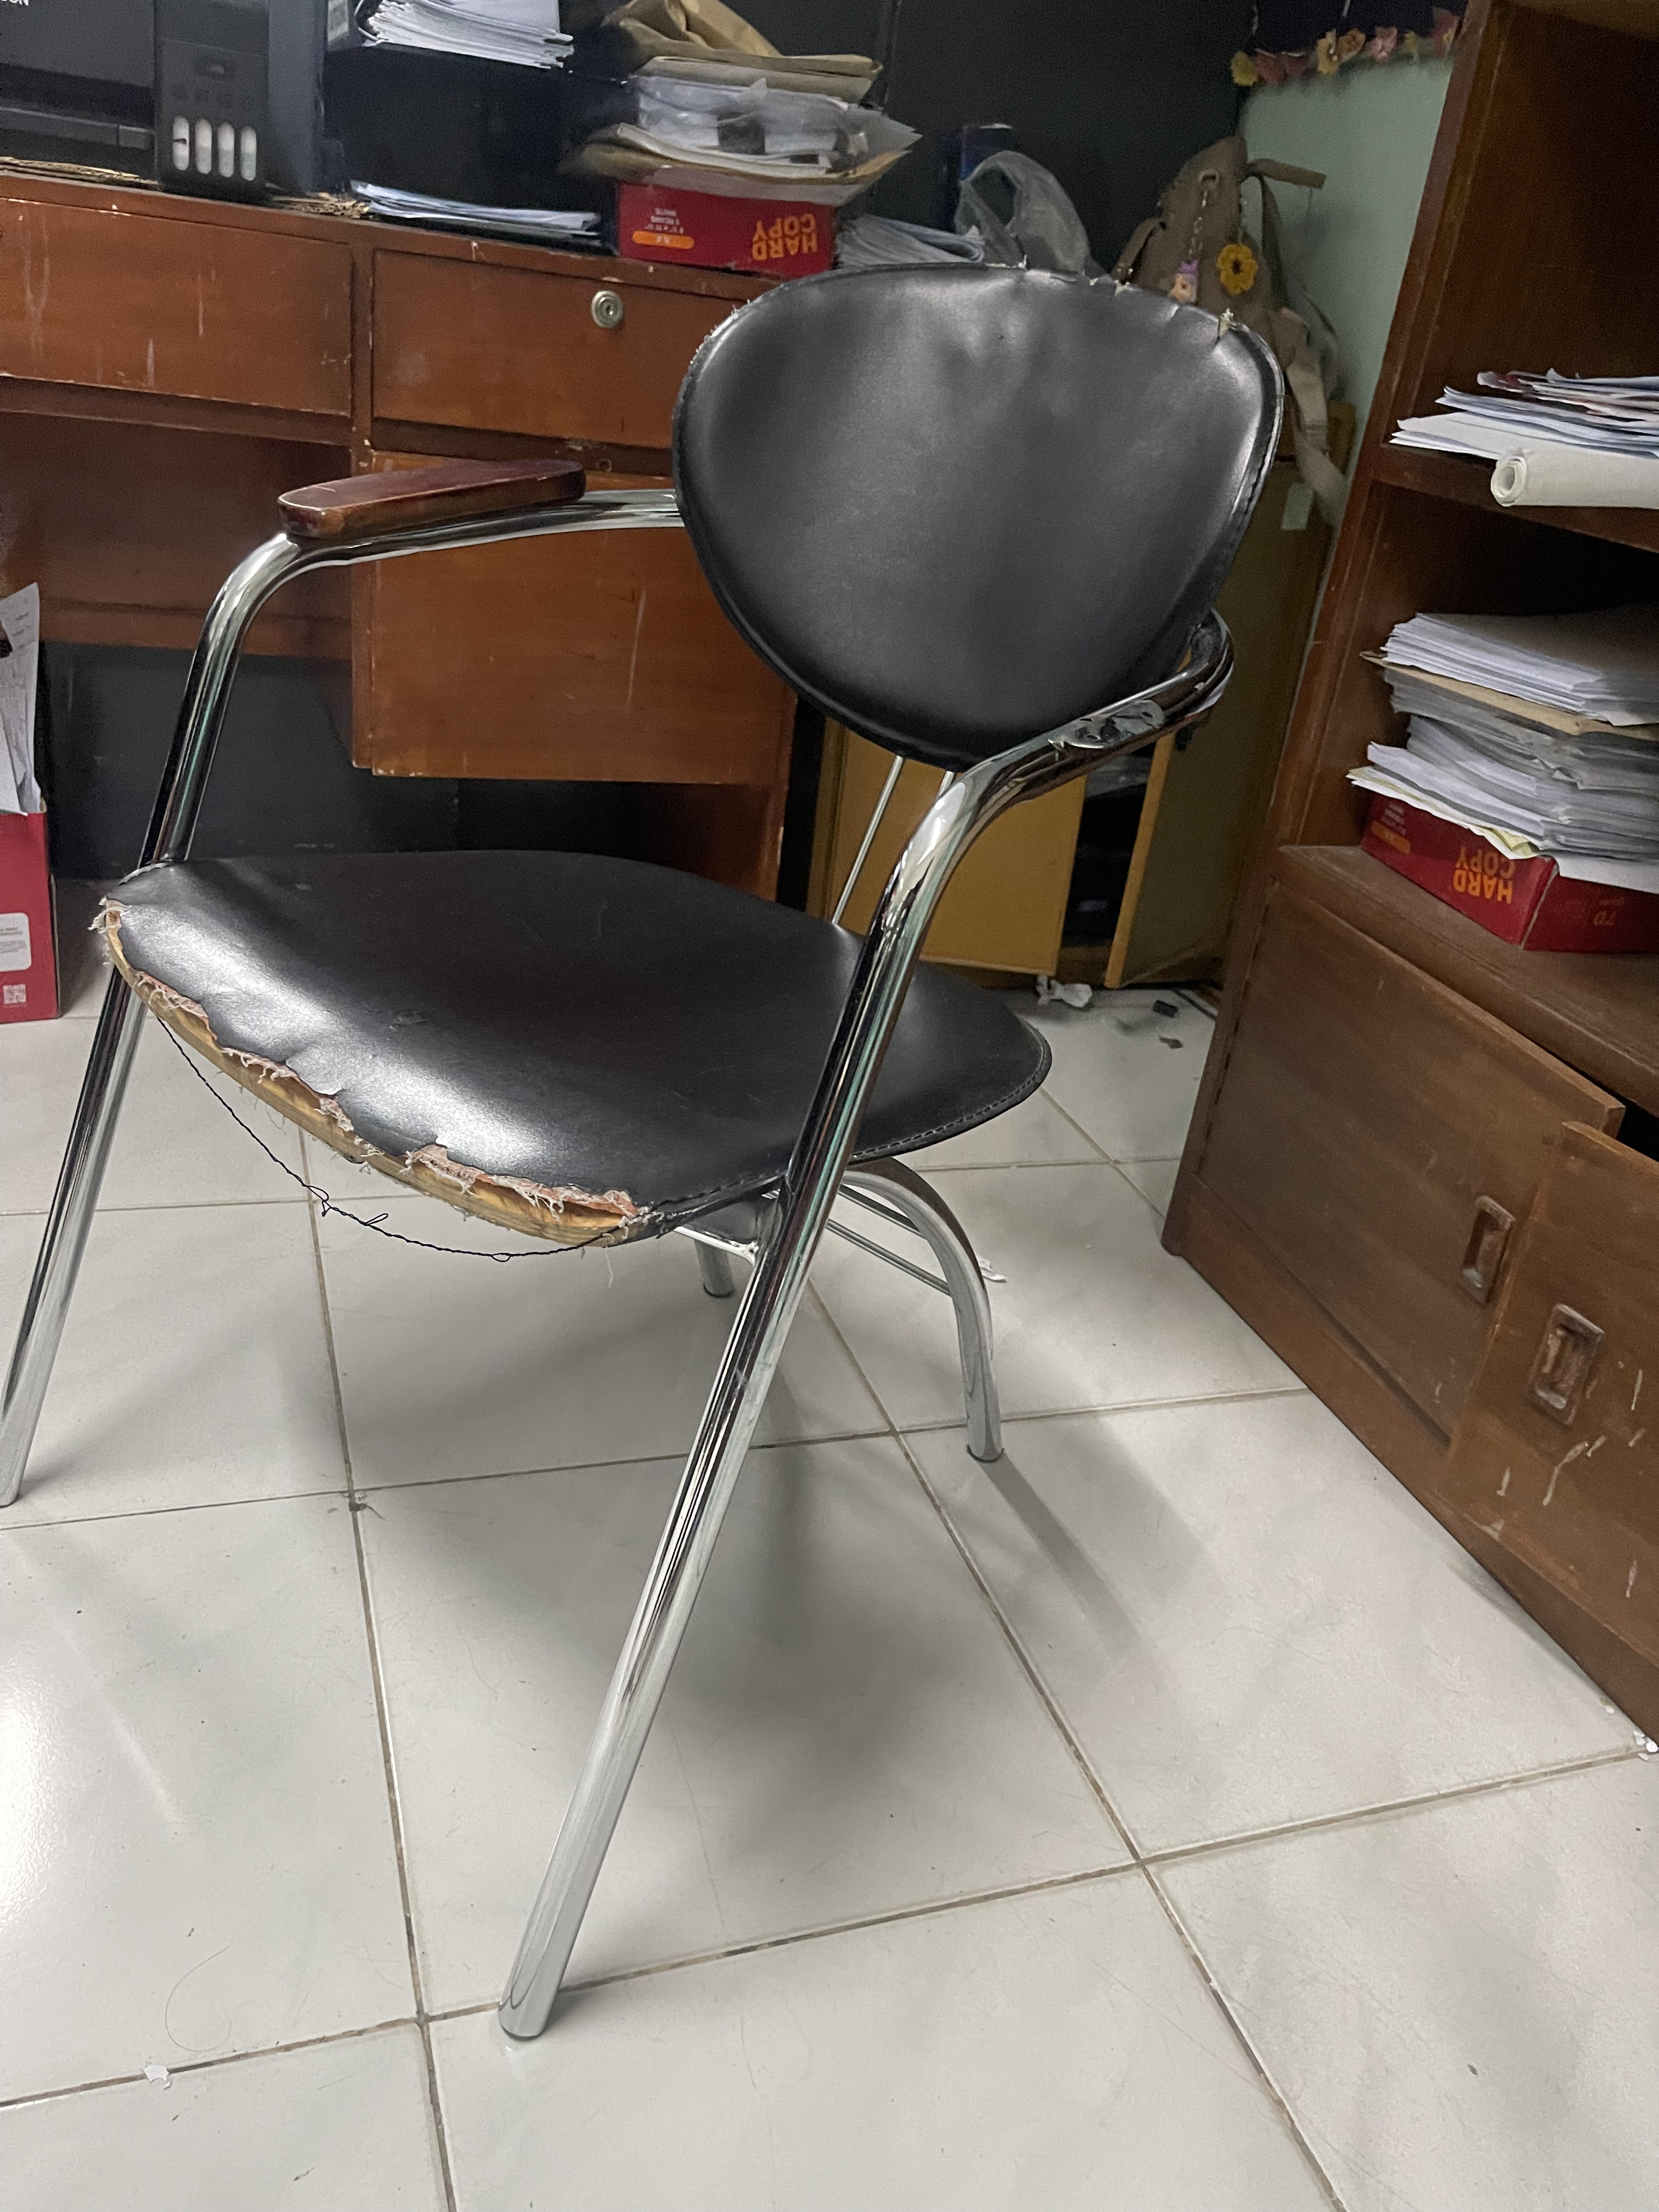chair1: (9, 247, 1307, 2062)
